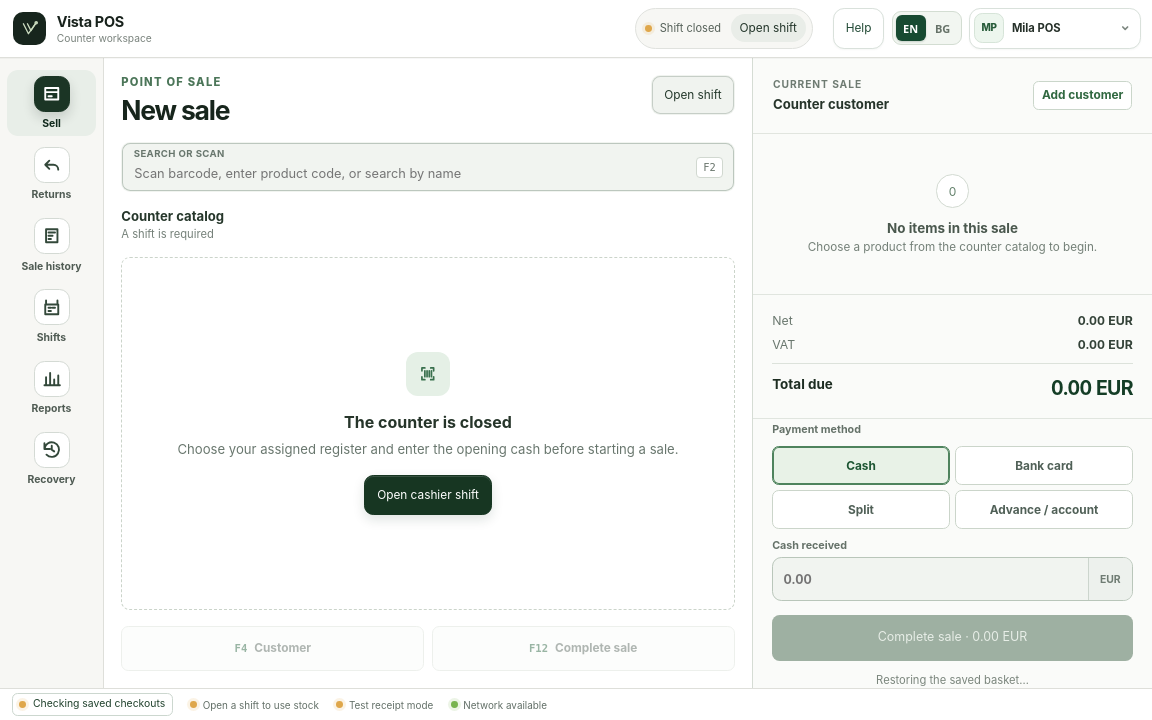
Test: POS application › keeps every available POS area reachable through terminal navigation
The width and height of the screenshot is (1152, 720).
Expected: the heading "New sale" is shown, [121,94,229,126]
Click the link "Returns": (52, 174) [32,147,71,202]
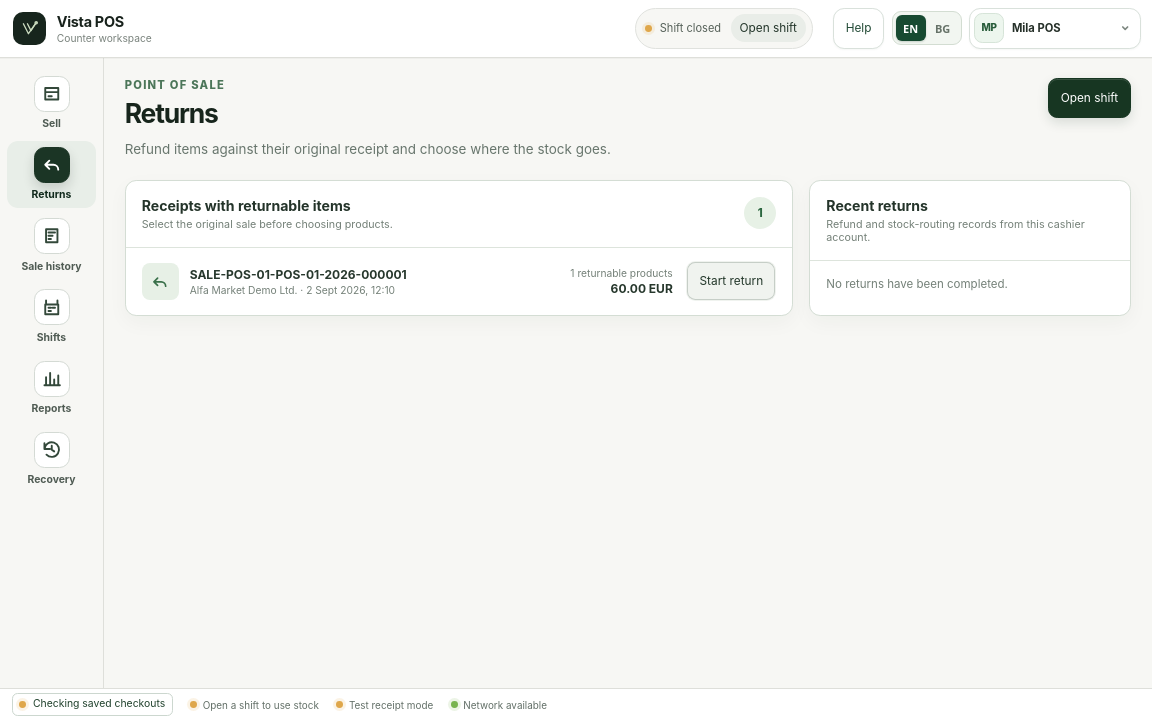
Expected: the heading "Returns" is shown, [125,97,218,129]
Click the link "Sale history": (51, 245) [21,218,82,273]
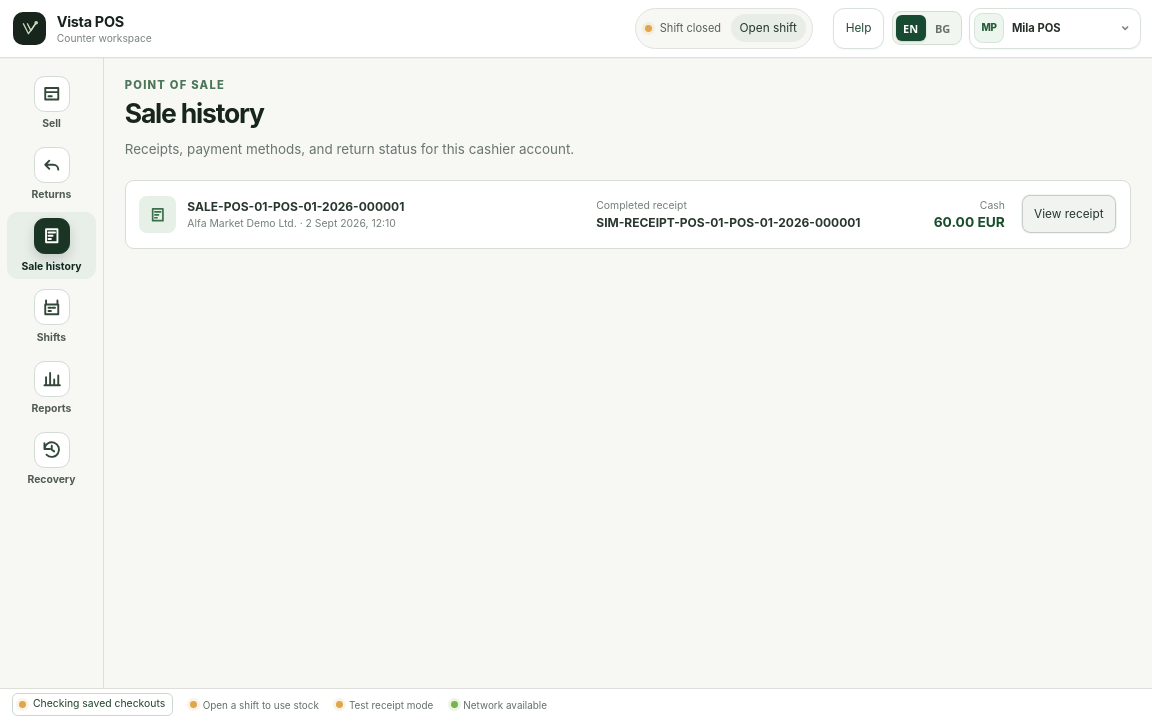
Expected: the heading "Sale history" is shown, [125,97,264,129]
Click the link "Shifts": (52, 317) [34,289,70,344]
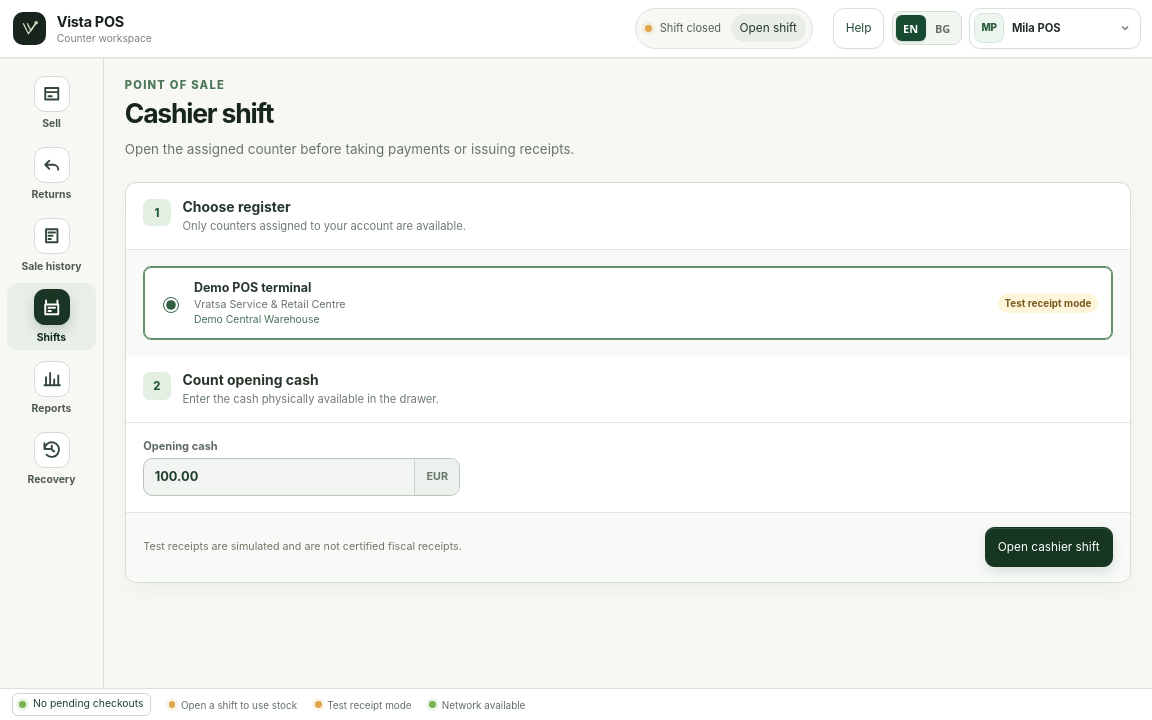
Expected: the heading "Cashier shift" is shown, [125,97,273,129]
Click the link "Reports": (52, 388) [32,360,71,415]
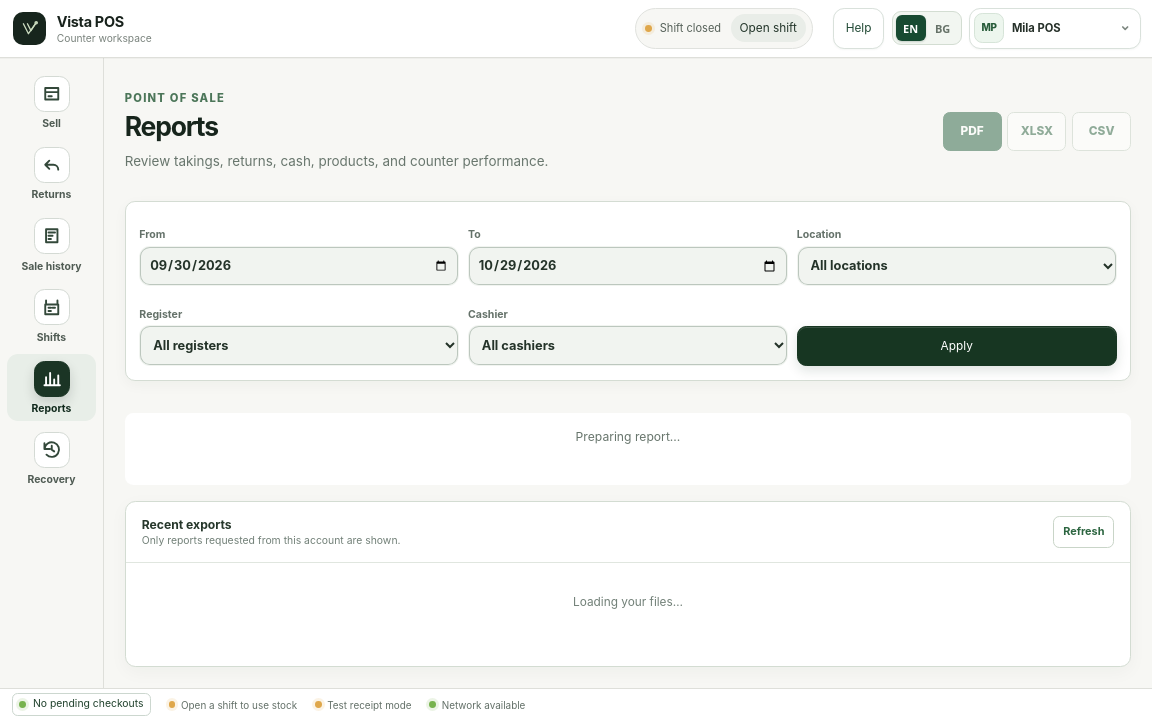
Expected: the heading "Reports" is shown, [125,110,218,142]
Click the link "Recovery": (52, 459) [28,432,76,486]
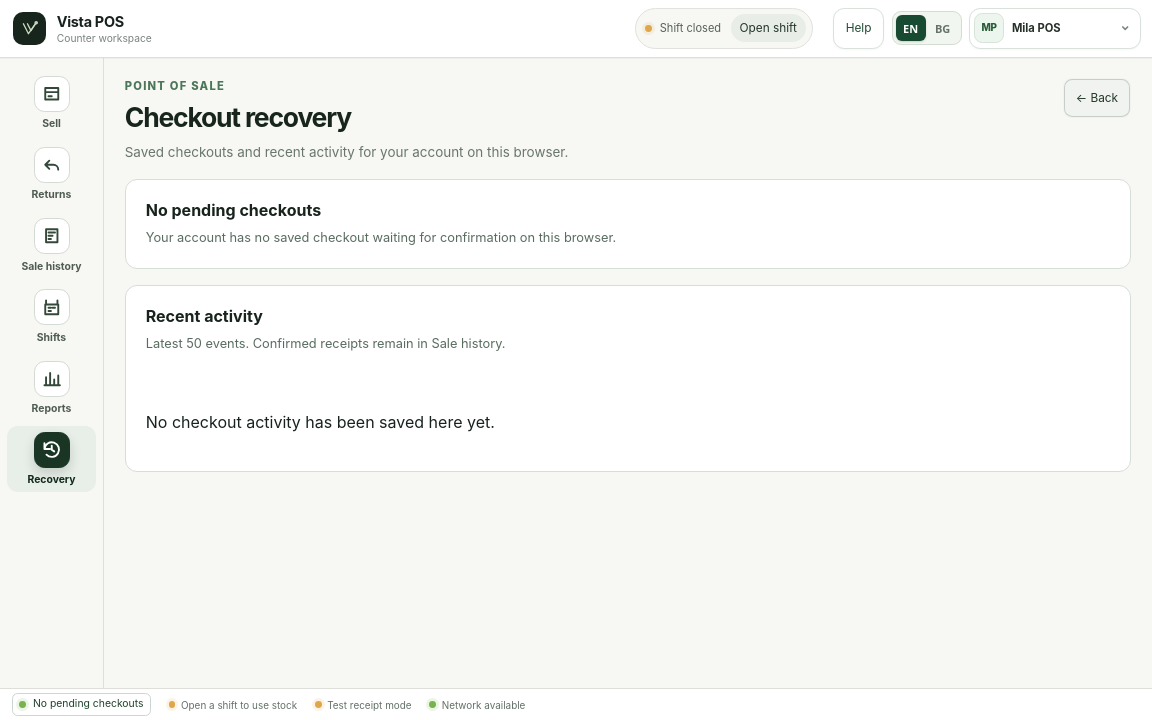
Expected: the heading "Checkout recovery" is shown, [125,101,351,133]
